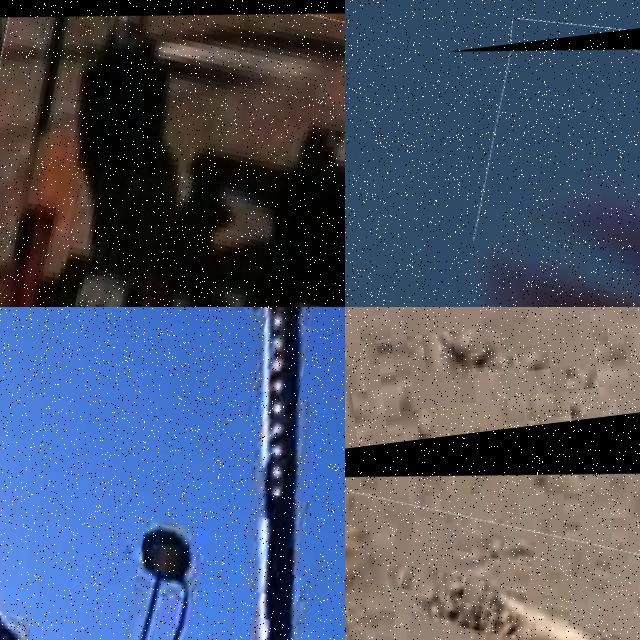0: (0, 307, 345, 640), (345, 401, 640, 640)
drone: (0, 0, 345, 307), (449, 0, 640, 307)
